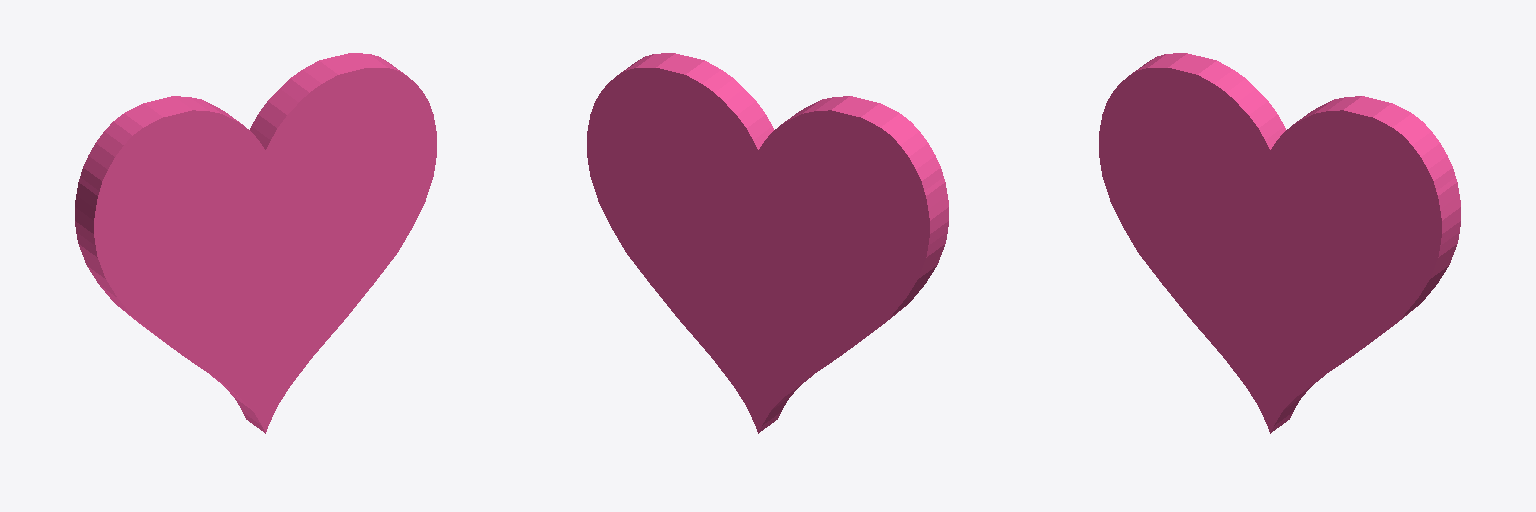
Rendered from heart.obj.
3 renders of one model, left to right at view 1: azimuth 30°, elevation 25°; view 2: azimuth 150°, elevation 25°; view 3: azimuth 330°, elevation 25°, orthographic.
Visible parts, largest first — view 1: Cube__0; view 2: Cube__0; view 3: Cube__0.
Boxes of the visible parts, box(x1,y1,x2,y2) form: Cube__0: box(75, 53, 436, 433); Cube__0: box(587, 53, 948, 433); Cube__0: box(1099, 53, 1460, 433).
Size of the model in its own units: 4.97 by 4.72 by 0.4891.